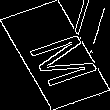M_NE: (13, 24, 97, 86)
